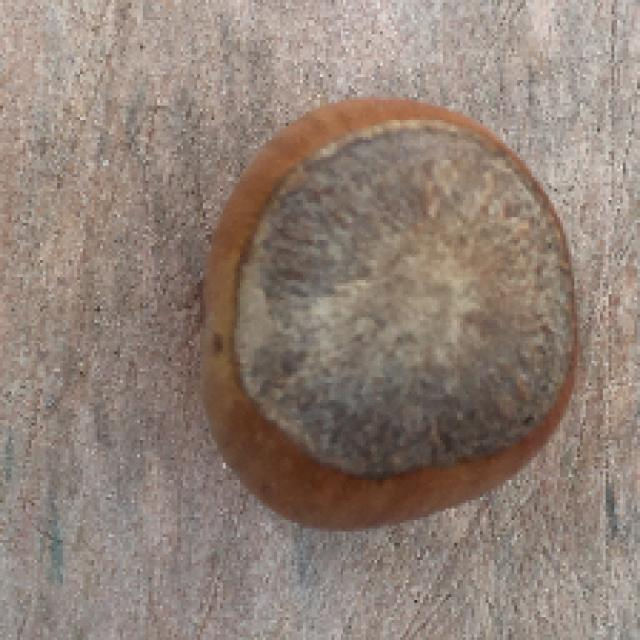damagedHazelnut: (188, 95, 582, 524)
